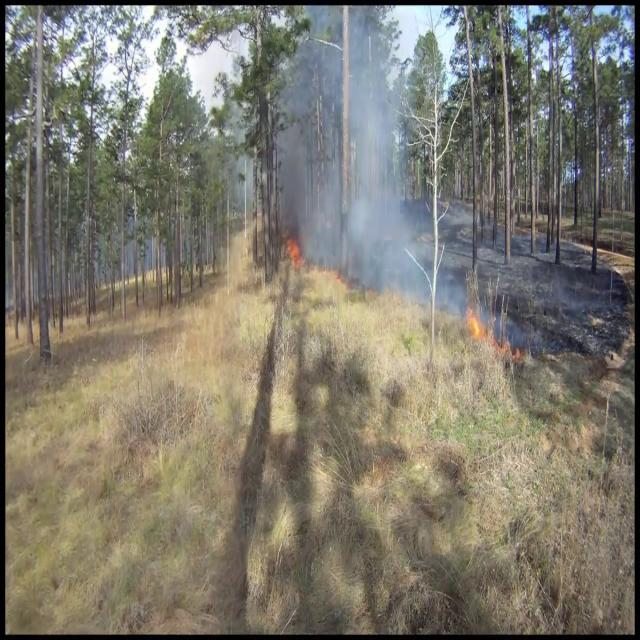Fire: (464, 301, 509, 362), (284, 230, 304, 268)
Smoke: (300, 12, 456, 320)
